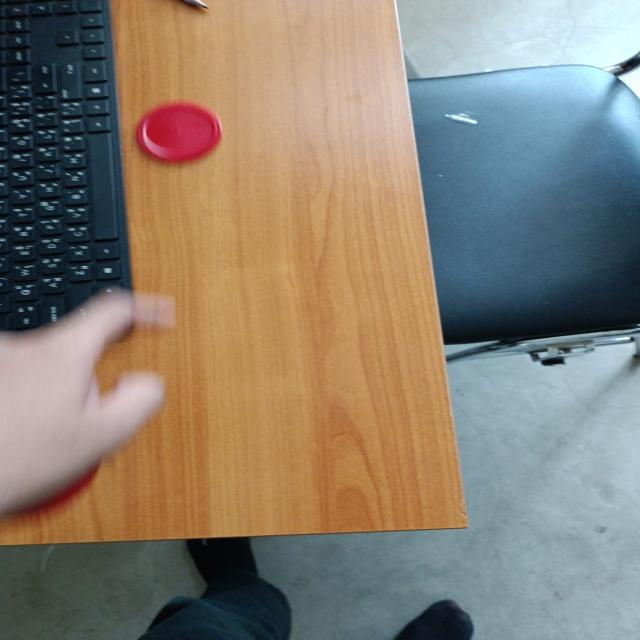chip: (133, 100, 224, 165)
